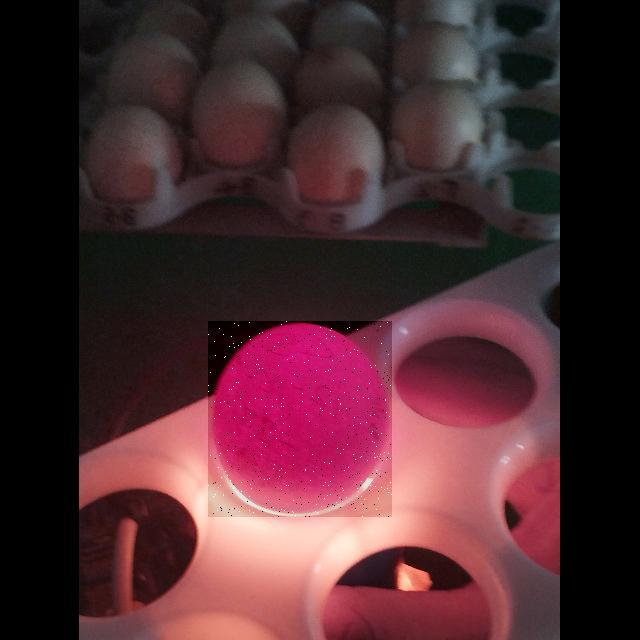Infertile: (208, 321, 392, 517)
